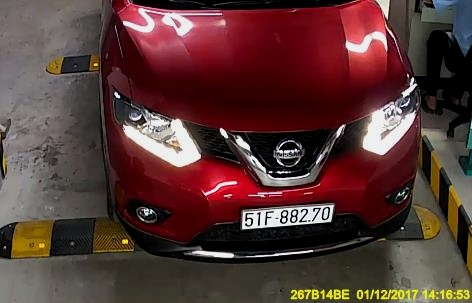plate: (238, 202, 335, 228)
